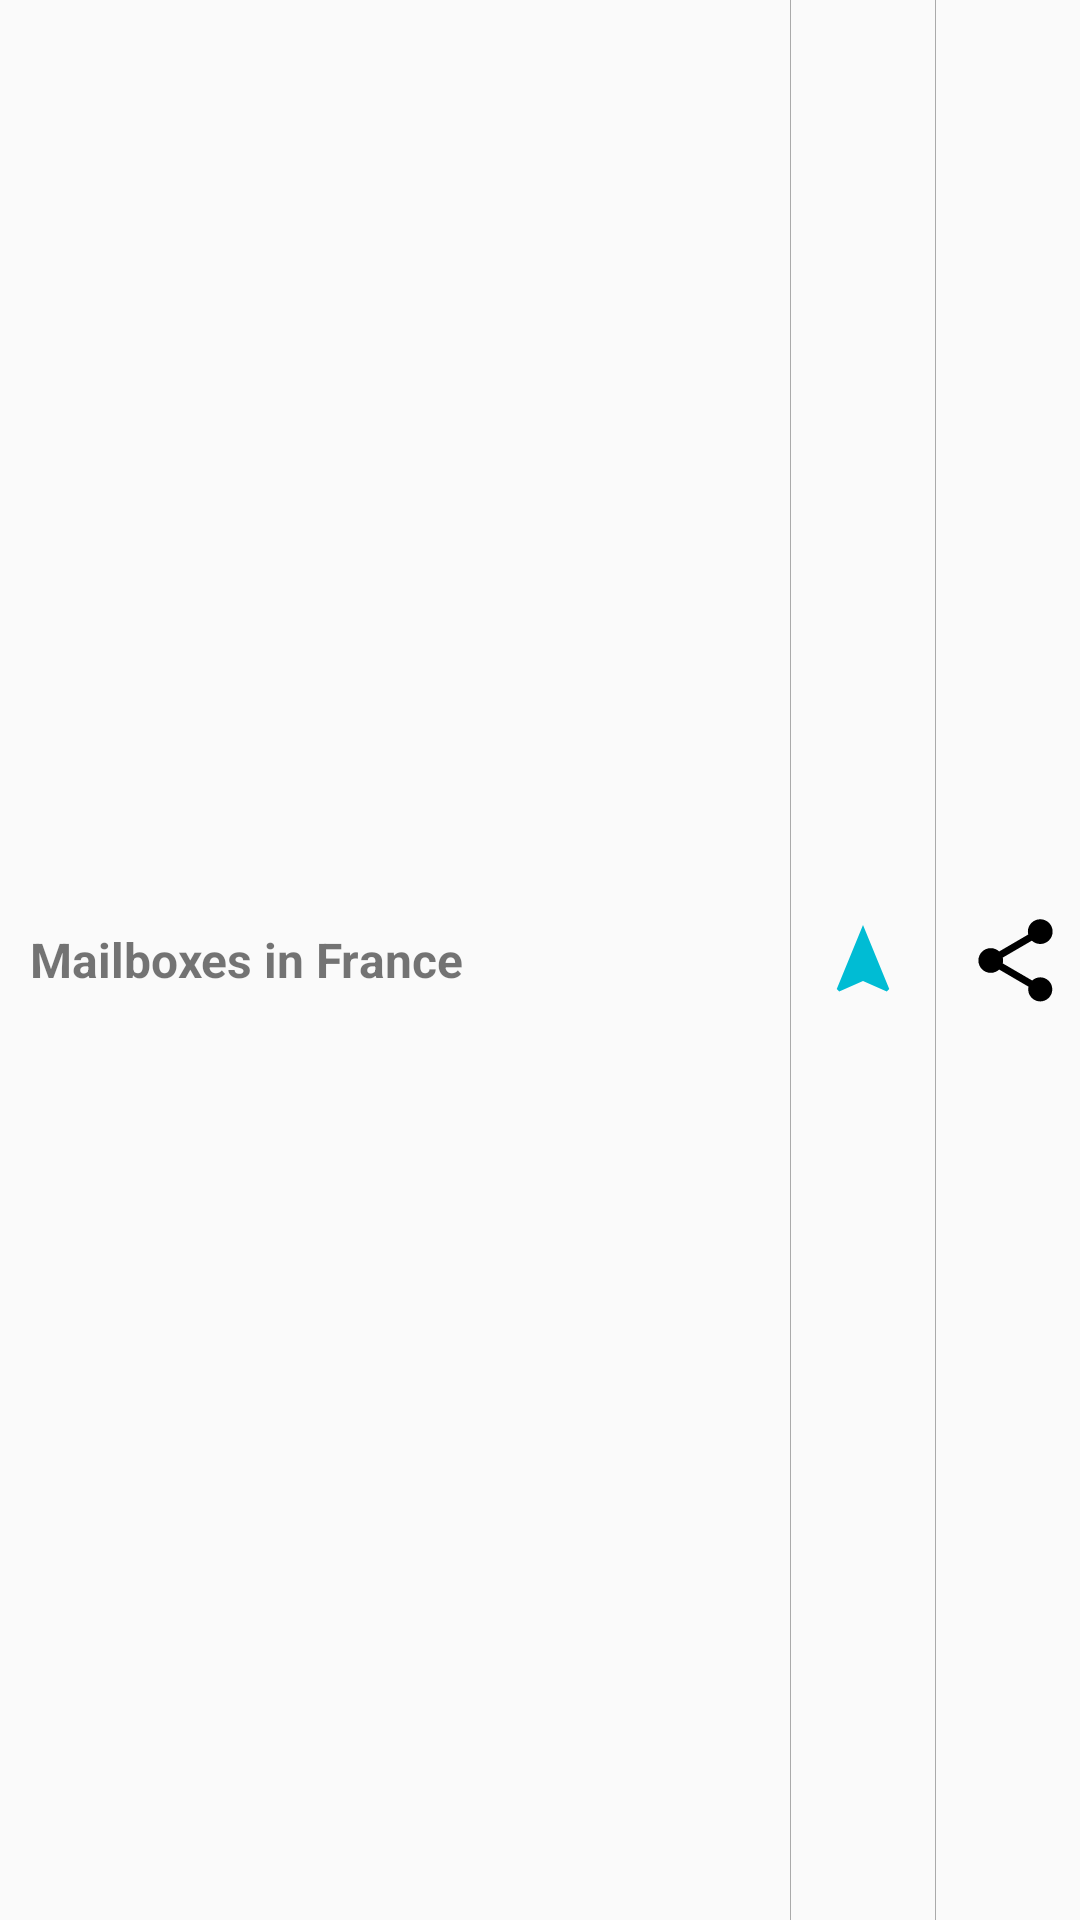

Where to tap for icons on this 1080*1920 app screen, as point (x, y):
Route: point (863, 958)
Share: point (1015, 960)
